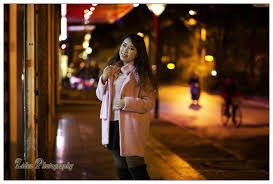people: (98, 35, 153, 184)
